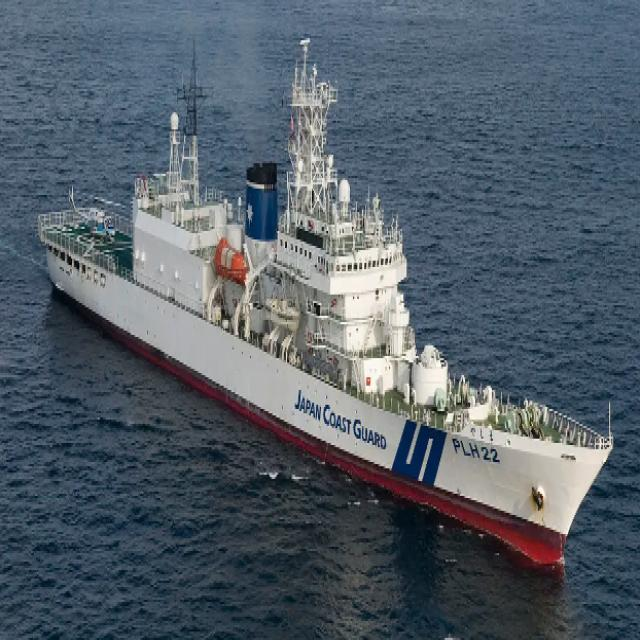navalvessels: (35, 38, 616, 574)
